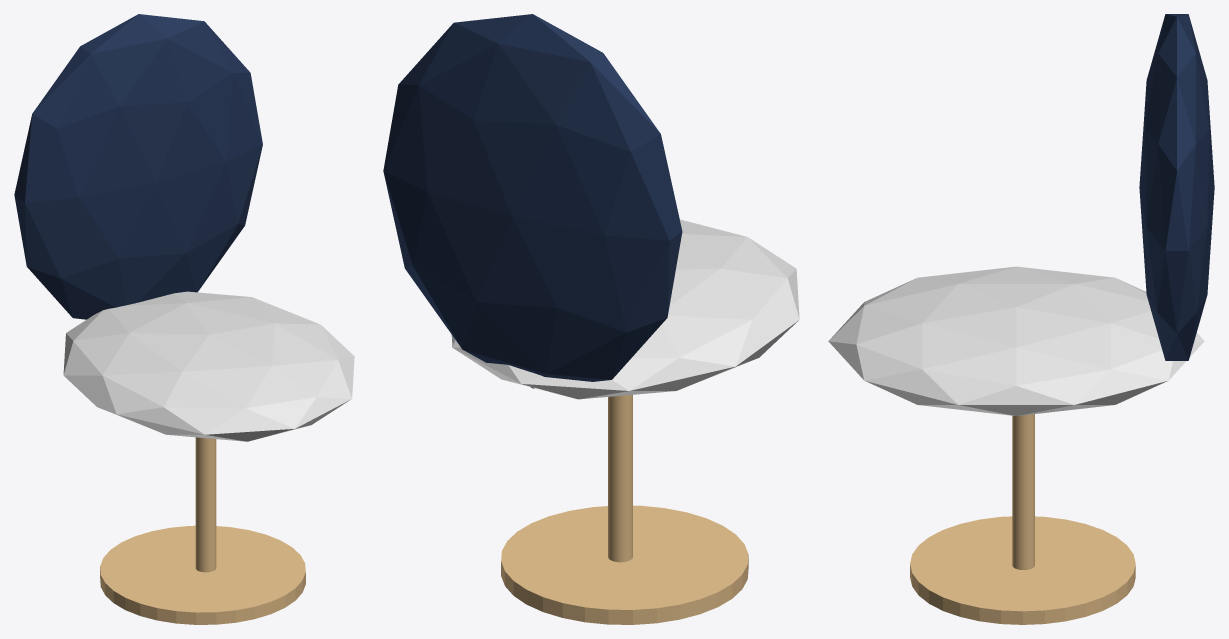
3 renders of one model, left to right at view 1: azimuth 30°, elevation 25°; view 2: azimuth 150°, elevation 25°; view 3: azimuth 270°, elevation 25°, orthographic. The views are drawn at different scales.
Visible parts, largest first — view 1: Icosphere, Icosphere.001, Cylinder.001, Cylinder; view 2: Icosphere, Cylinder.001, Icosphere.001, Cylinder; view 3: Icosphere.001, Icosphere, Cylinder.001, Cylinder.
Part boxes in pixels (x1,y1,x2,y2): Icosphere: (14, 14, 262, 319); Icosphere.001: (63, 291, 354, 441); Cylinder.001: (100, 525, 305, 624); Cylinder: (195, 437, 216, 572); Icosphere: (383, 14, 682, 388); Cylinder.001: (501, 505, 748, 624); Icosphere.001: (451, 219, 799, 399); Cylinder: (608, 394, 632, 562); Icosphere.001: (828, 266, 1204, 415); Icosphere: (1139, 14, 1214, 360); Cylinder.001: (910, 516, 1135, 624); Cylinder: (1012, 414, 1034, 569).
Size of the model in its own units: 0.4049 by 0.8261 by 0.5133.
